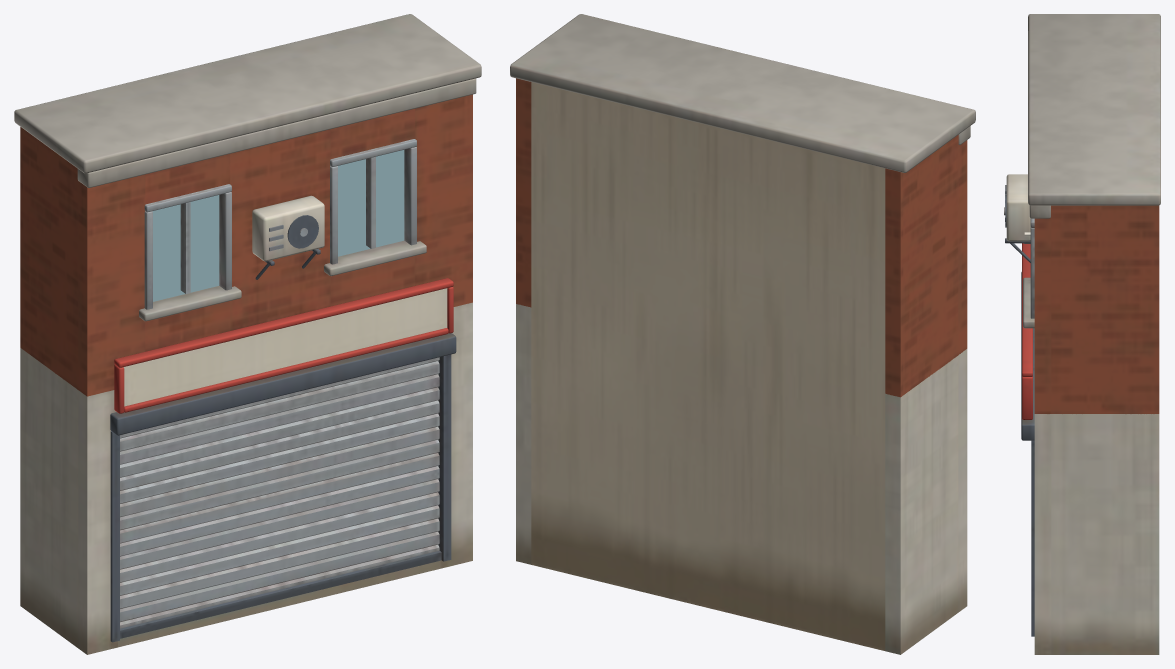
The model's file is filler_shutter.glb.
3 renders of one model, left to right at view 1: azimuth 30°, elevation 25°; view 2: azimuth 150°, elevation 25°; view 3: azimuth 270°, elevation 25°, orthographic. The views are drawn at different scales.
Parts seen in each view (by area): view 1: filler_shutter; view 2: filler_shutter; view 3: filler_shutter.
Boxes of the visible parts, x1,y1,x2,y2 form: filler_shutter: [14, 14, 481, 654]; filler_shutter: [510, 14, 975, 654]; filler_shutter: [1004, 14, 1160, 654].
Size of the model in its own units: 5.16 by 6.16 by 1.89.
Materials: 11 (10 with a texture image).
